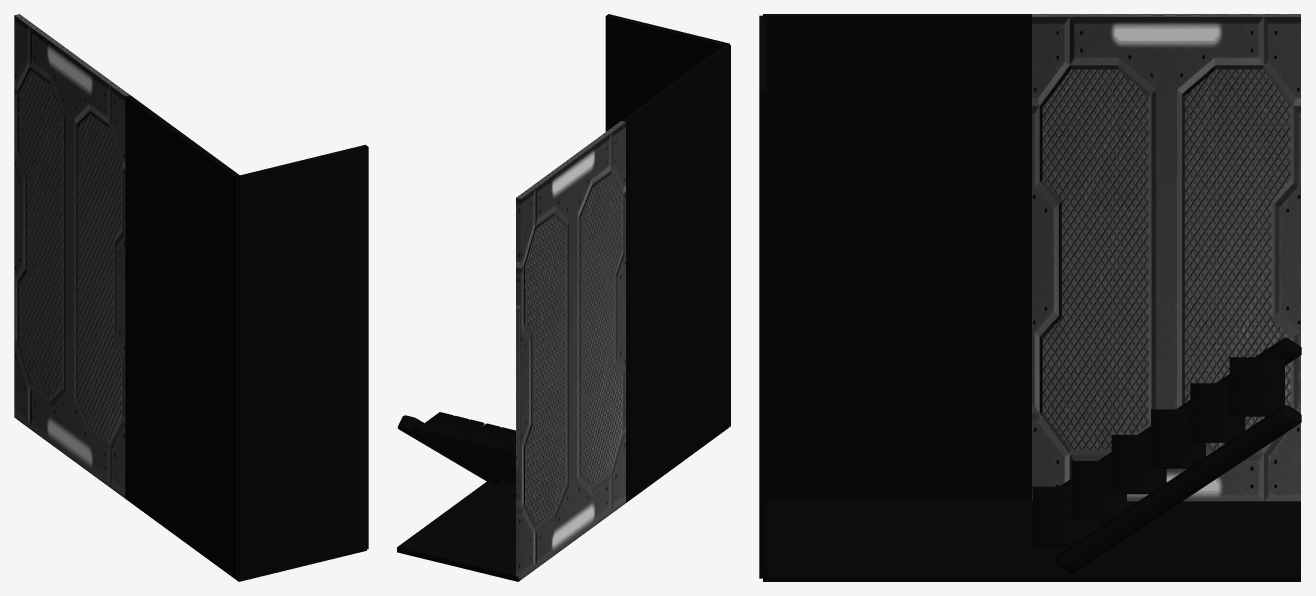
The model's file is EntreeArchive.fbx.
The picture shows the model from 3 angles, left to right: view 1: azimuth 30°, elevation 25°; view 2: azimuth 150°, elevation 25°; view 3: azimuth 270°, elevation 25°; orthographic projection. The views are drawn at different scales.
Parts seen in each view (by area): view 1: Cube.003, Cube.004, Cube.001; view 2: Cube.001, Cube.004, Cube.003, Cube.002, Sci-Fi_Stairs_Middle_.004; view 3: Cube.004, Cube.001, Cube.002, Sci-Fi_Stairs_Middle_.004, Cube.003.
Boxes of the visible parts, x1,y1,x2,y2 form: Cube.003: [238, 144, 368, 580]; Cube.004: [125, 95, 240, 579]; Cube.001: [14, 14, 129, 498]; Cube.001: [516, 121, 625, 579]; Cube.004: [621, 44, 730, 502]; Cube.003: [605, 14, 729, 131]; Cube.002: [397, 429, 726, 581]; Sci-Fi_Stairs_Middle_.004: [397, 412, 516, 484]; Cube.004: [763, 14, 1031, 501]; Cube.001: [1032, 14, 1300, 501]; Cube.002: [763, 501, 1300, 581]; Sci-Fi_Stairs_Middle_.004: [1032, 337, 1301, 573]; Cube.003: [759, 15, 766, 578].
Size of the model in its own units: 510 by 1510 by 1512.
